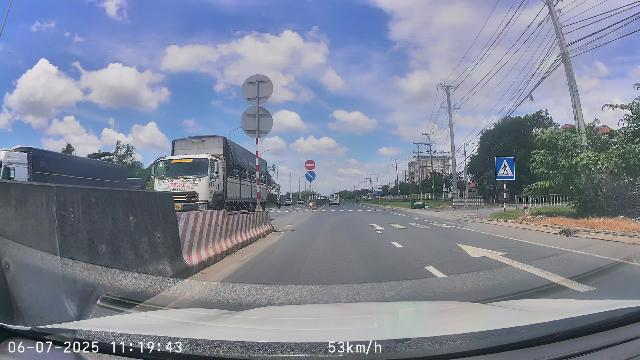102-cam-di-nguoc-chieu: (305, 159, 315, 170)
302a-huong-phai-di-vong-chuong-ngai-vat-1: (305, 170, 316, 181)
423a-duong-nguoi-di-bo-sang-ngang-1: (495, 157, 515, 180)
